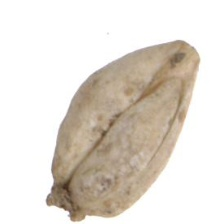L1: (45, 185, 94, 222), (165, 40, 201, 88)
L2: (45, 40, 200, 221)
